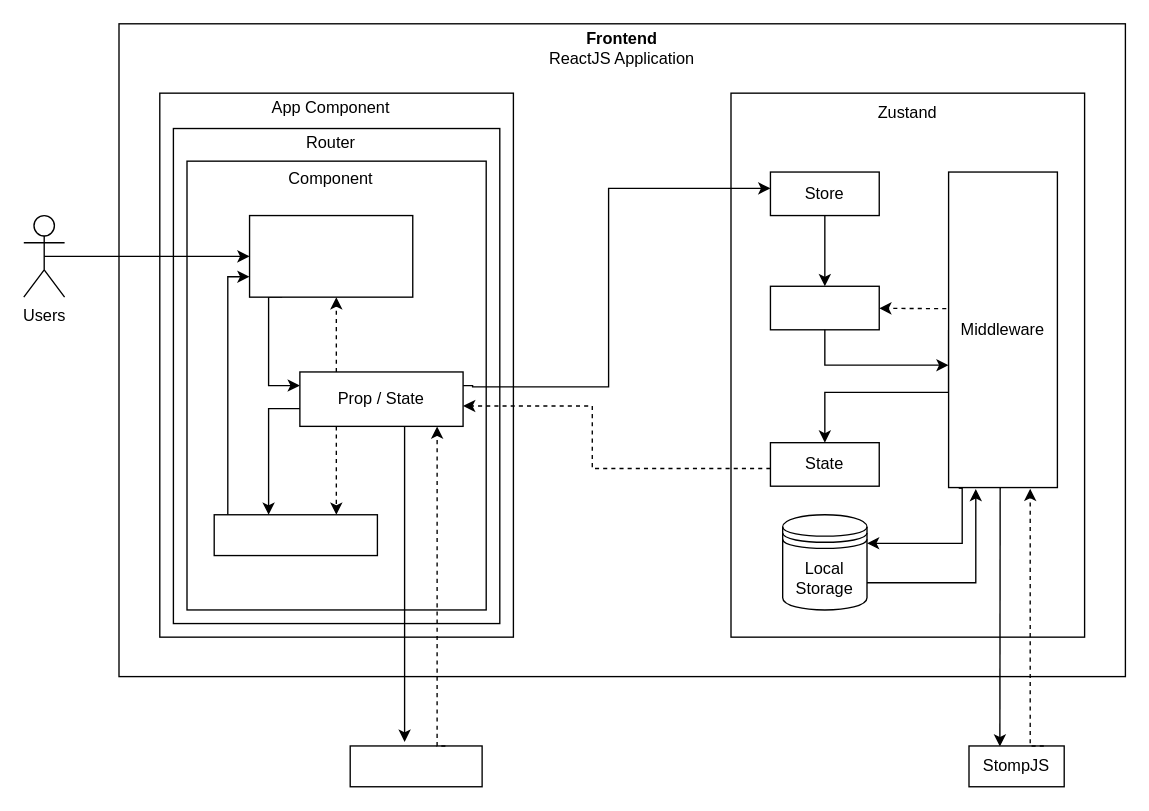
The diagram is 1149 pixels wide and 811 high, and some of its shapes have lost their labels. The centre of each missing label's shape, as x and y in pixels:
Action: the point at 824,307
Context: the point at 295,534
Presentation Component: the point at 330,255
TanStack Query: the point at 415,766
